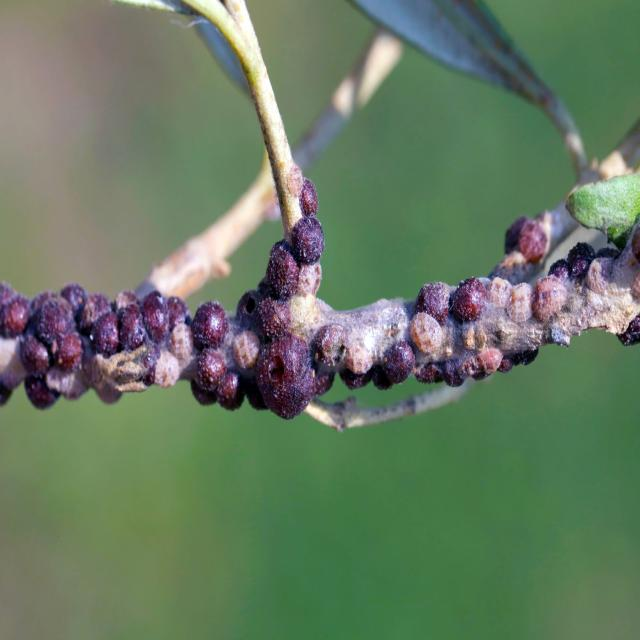Black Scale: (20, 283, 111, 409), (256, 334, 315, 418), (143, 291, 193, 387), (314, 322, 375, 389), (488, 276, 567, 322), (90, 291, 141, 357), (191, 348, 245, 410), (237, 282, 291, 342), (505, 212, 551, 270), (264, 239, 301, 300), (191, 301, 228, 350), (0, 282, 30, 339), (450, 277, 487, 322), (415, 283, 454, 325), (291, 216, 324, 265), (465, 348, 512, 381), (409, 311, 443, 355), (382, 340, 415, 385), (415, 360, 469, 387), (567, 243, 596, 281), (233, 330, 260, 370), (299, 178, 319, 216), (287, 163, 303, 196)
